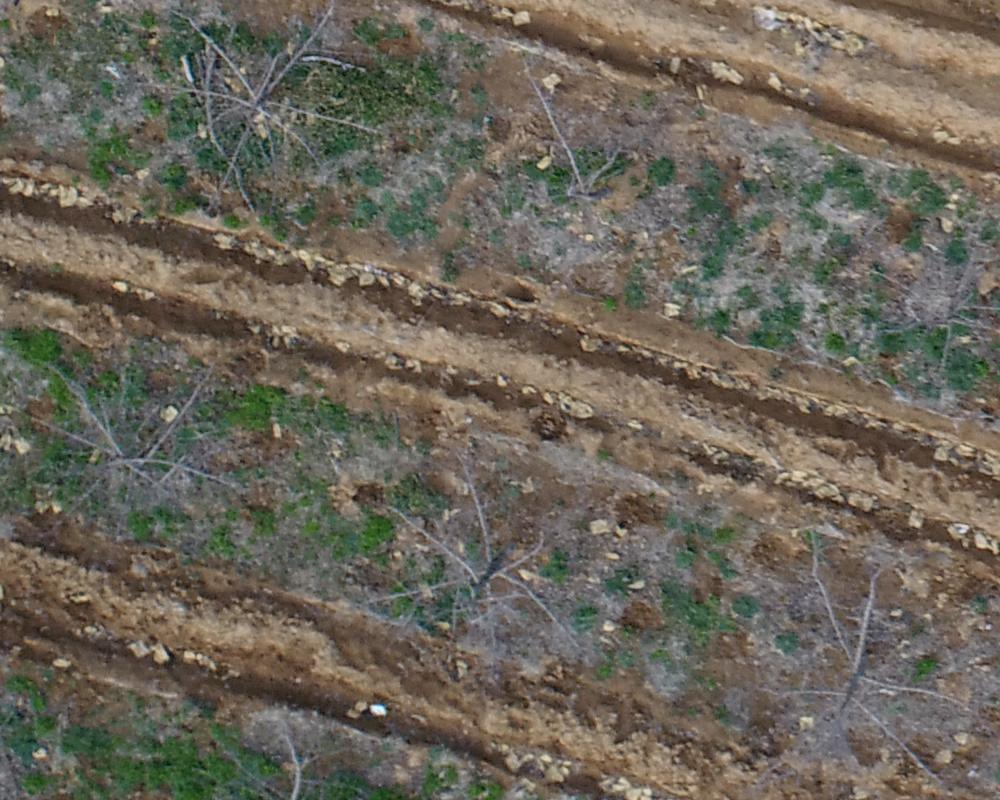apple: (123, 10, 370, 224), (760, 535, 965, 788), (21, 348, 245, 552), (379, 458, 583, 658), (496, 58, 656, 250), (865, 230, 990, 406)
